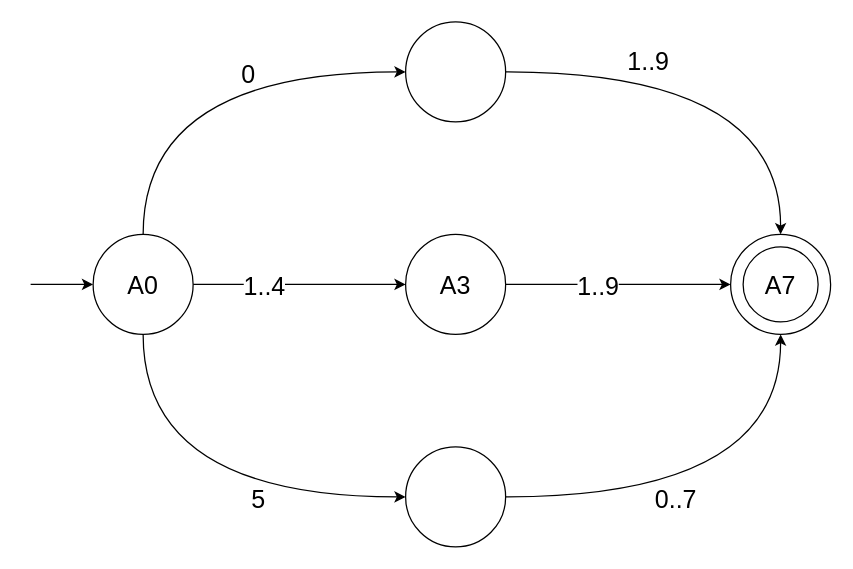
The diagram is 853 pixels wide and 569 high, and some of its shapes have lost their labels. The shapes that lost their labels are listed below. From the top down, each one's centre as x and y in pixels, then its label:
At pixel 455 71: "A1".
At pixel 455 496: "A5".
